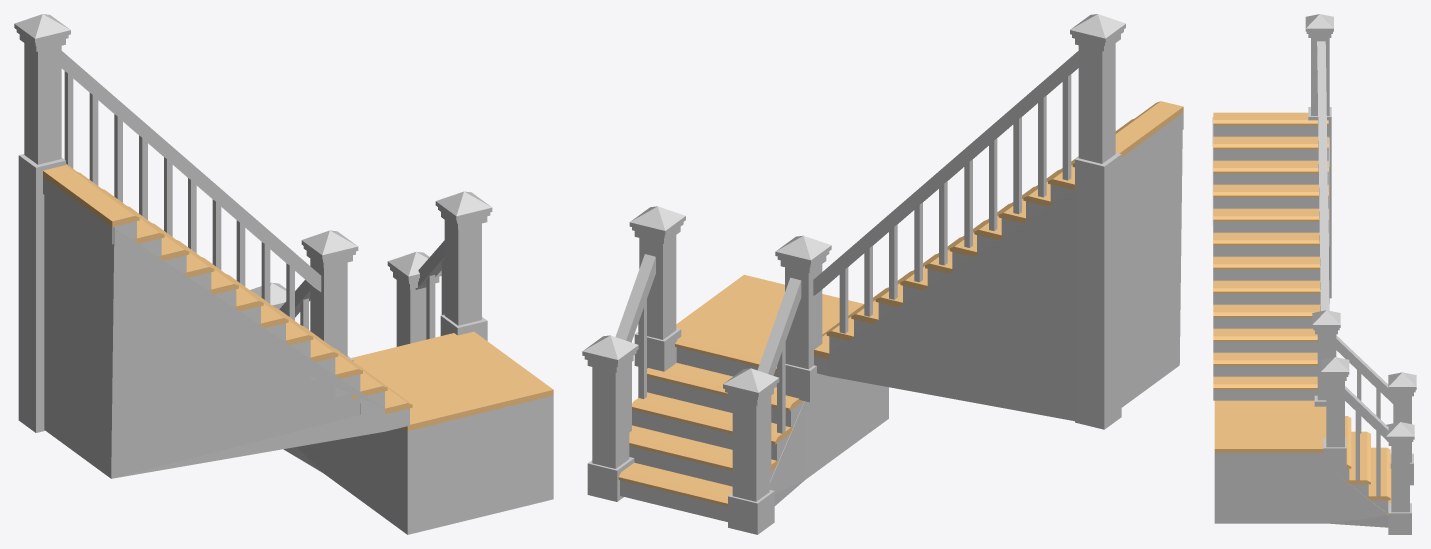
Rendered from Staircase Angled by Jarlan Perez - 3Ajz0-TVsiw.glb.
3 views of the same model, side by side, from view 1: azimuth 30°, elevation 25°; view 2: azimuth 150°, elevation 25°; view 3: azimuth 270°, elevation 25° (orthographic). The views are drawn at different scales.
Parts seen in each view (by area): view 1: Node; view 2: Node; view 3: Node.
Boxes of the visible parts, left/top/right/bottom form: Node: left=14, top=14, right=553, bottom=534; Node: left=582, top=14, right=1183, bottom=534; Node: left=1212, top=14, right=1416, bottom=534.
Bounding box in the file's own units: 1.7 × 1.89 × 0.94.
